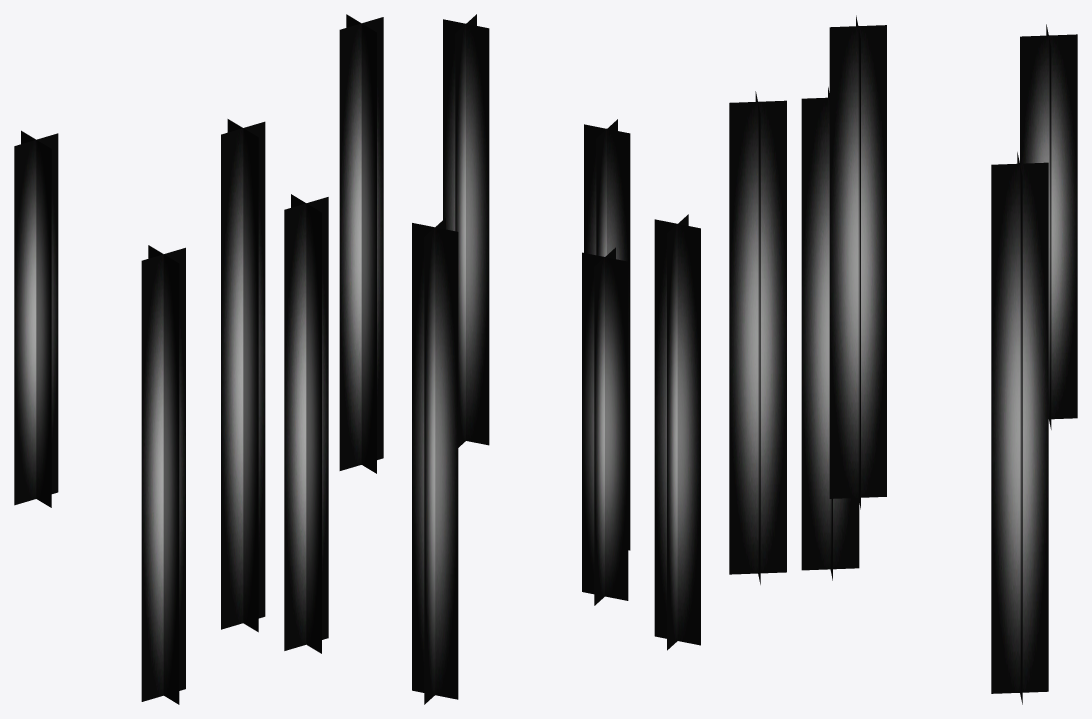
File: vfx_kurp_0612.dae
The picture shows the model from 3 angles, left to right: view 1: azimuth 30°, elevation 25°; view 2: azimuth 150°, elevation 25°; view 3: azimuth 270°, elevation 25°; orthographic projection. The views are drawn at different scales.
Visible parts, largest first — view 1: vfx_kurp_0612; view 2: vfx_kurp_0612; view 3: vfx_kurp_0612.
Boxes of the visible parts, x1,y1,x2,y2 form: vfx_kurp_0612: (14,14,383,704); vfx_kurp_0612: (412,14,700,704); vfx_kurp_0612: (729,15,1077,704).
Bounding box in the file's own units: 7.97 × 7.96 × 17.37.
1 material, 1 textured.
